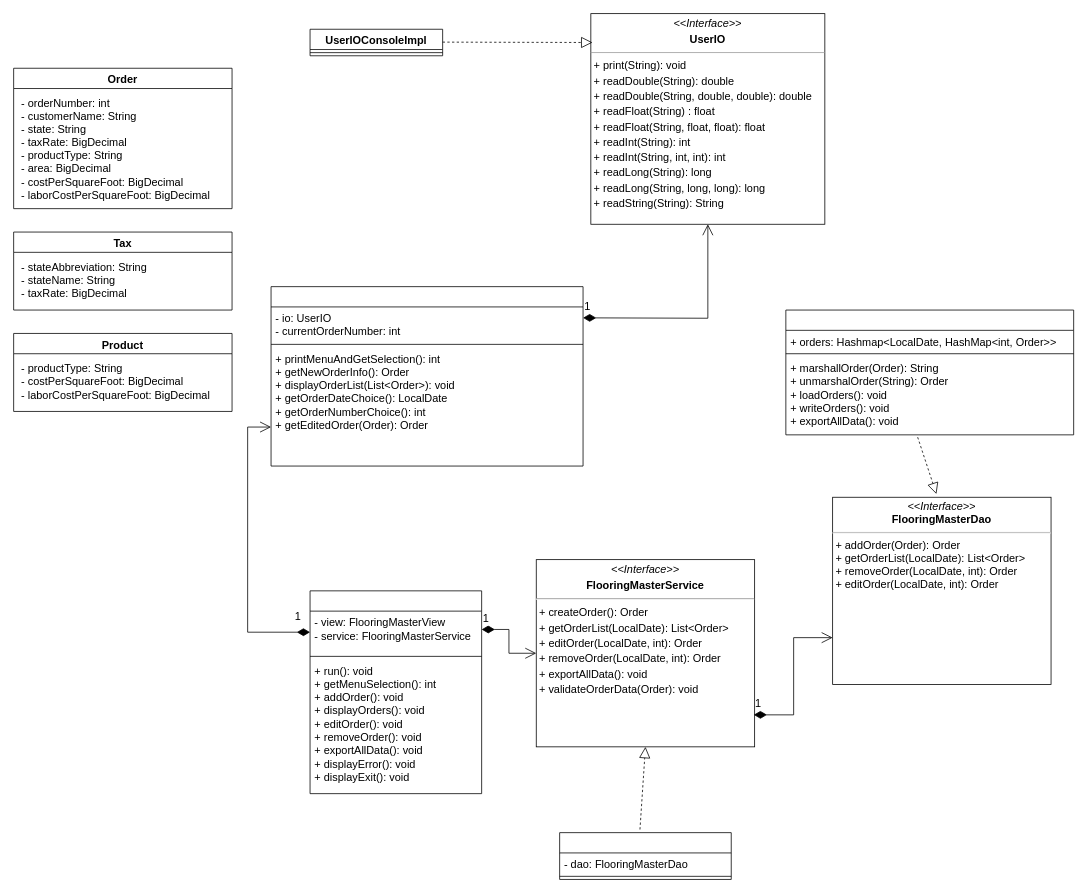
This 1087x893 diagram has some shape labels left out. The box of each missing label's shape, as (x1, y1, x2, y2) in pixels:
FlooringMasterController: (309, 590, 482, 794)
FlooringMasterDaoFileImpl: (785, 309, 1074, 435)
FlooringMasterServiceImpl: (559, 832, 731, 879)
FlooringMasterView: (270, 286, 583, 466)
